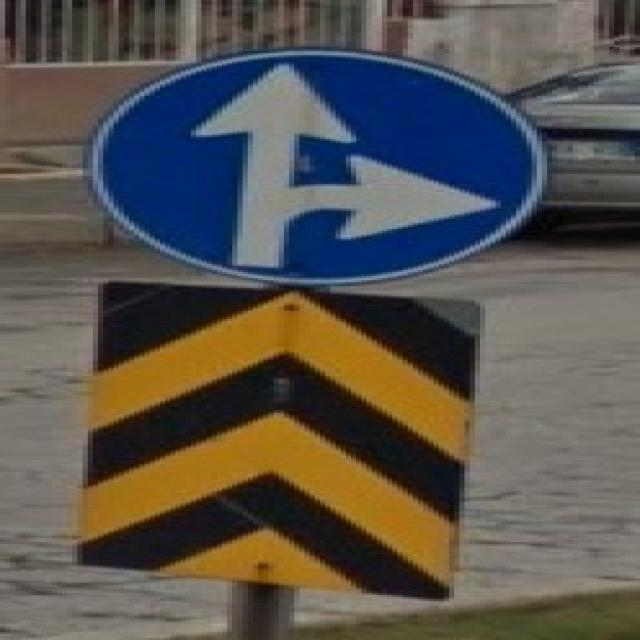Straight or Right: (89, 50, 553, 283)
